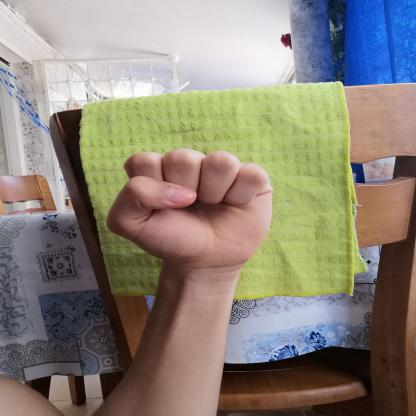SAD: (84, 138, 298, 284)
